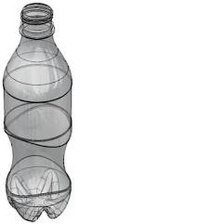bottle: (0, 0, 75, 224)
